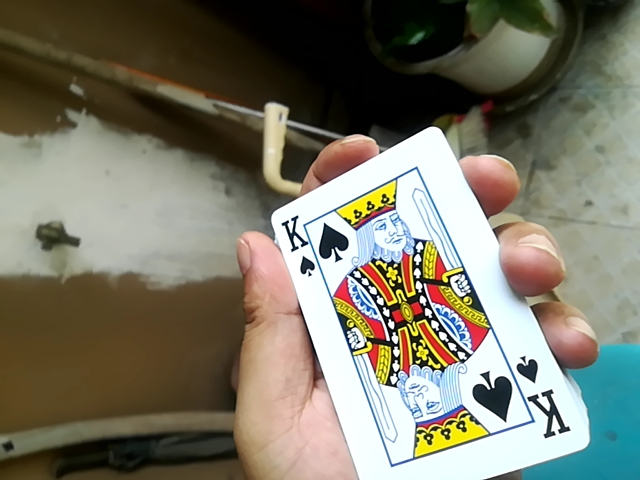ht k: (260, 136, 603, 479)
